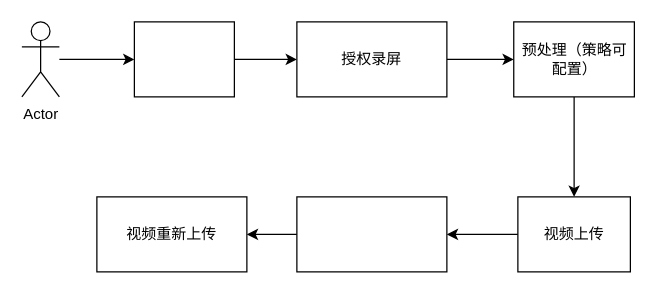
This 656x294 diagram has some shape labels left out. The centre of each missing label's shape, as x and y in pixels:
"玩游戏" goes at [183,59].
"视频剪辑，特效等" goes at [371,234].
